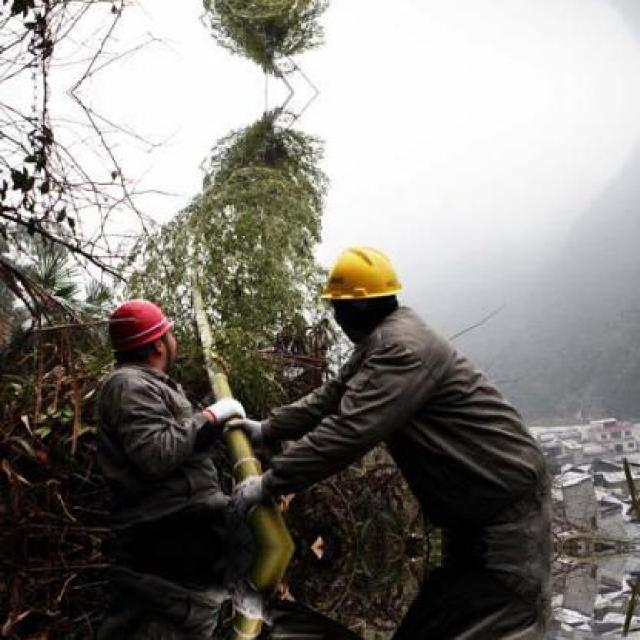helmet: (311, 233, 412, 336), (99, 291, 178, 374)
